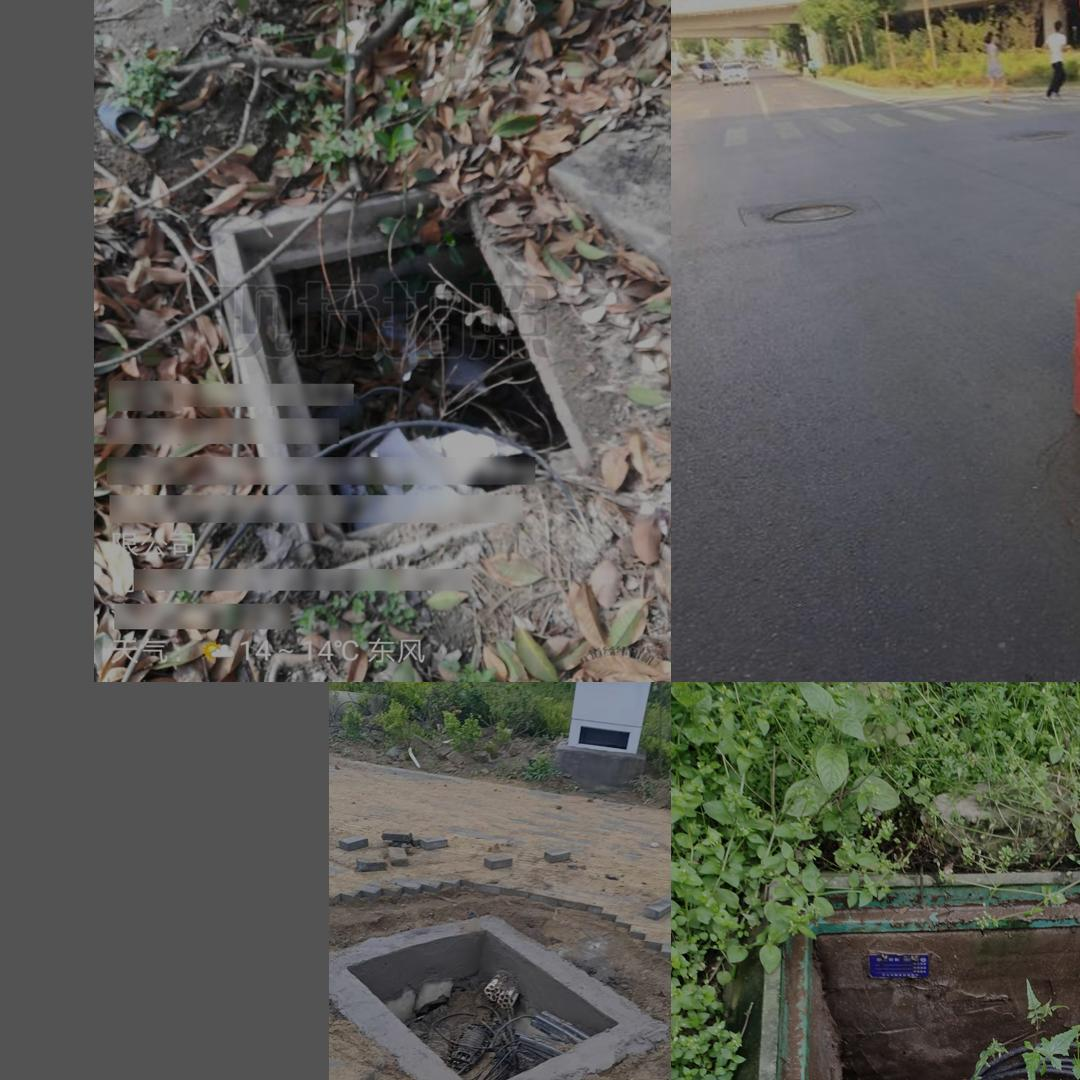lose: (207, 180, 597, 588), (745, 849, 1080, 1080), (340, 900, 656, 1080), (1072, 384, 1080, 599)
